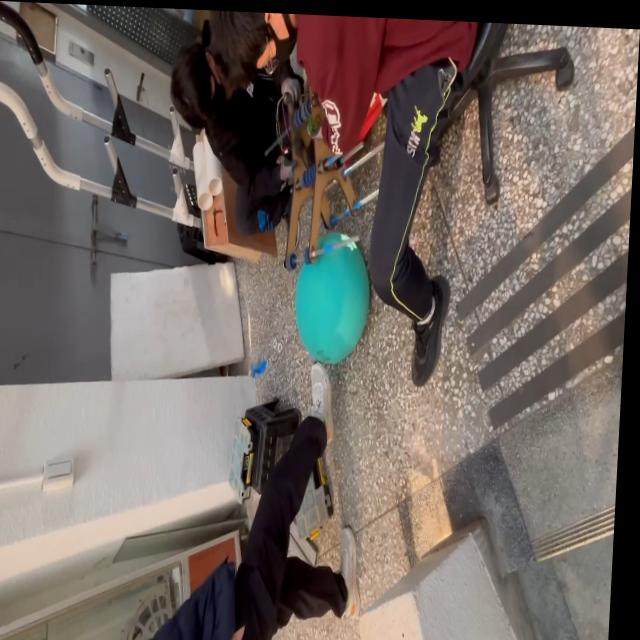ALGAE: (291, 229, 374, 368)
